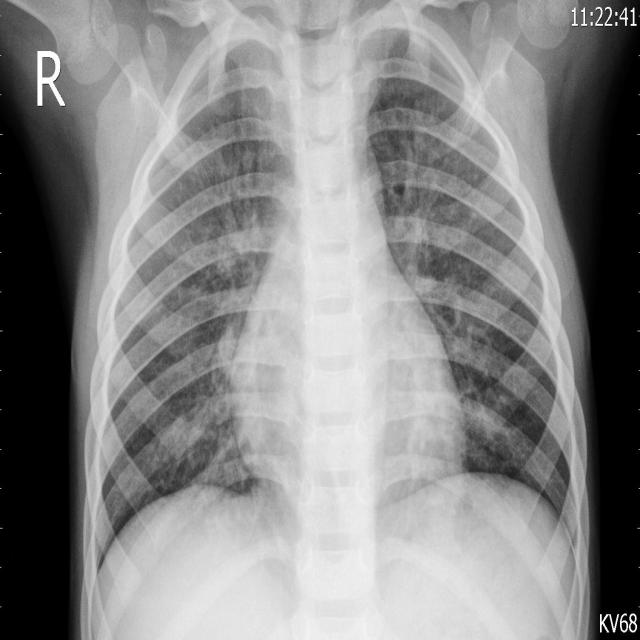low-pneumonia: (388, 148, 462, 339), (196, 214, 275, 368)
